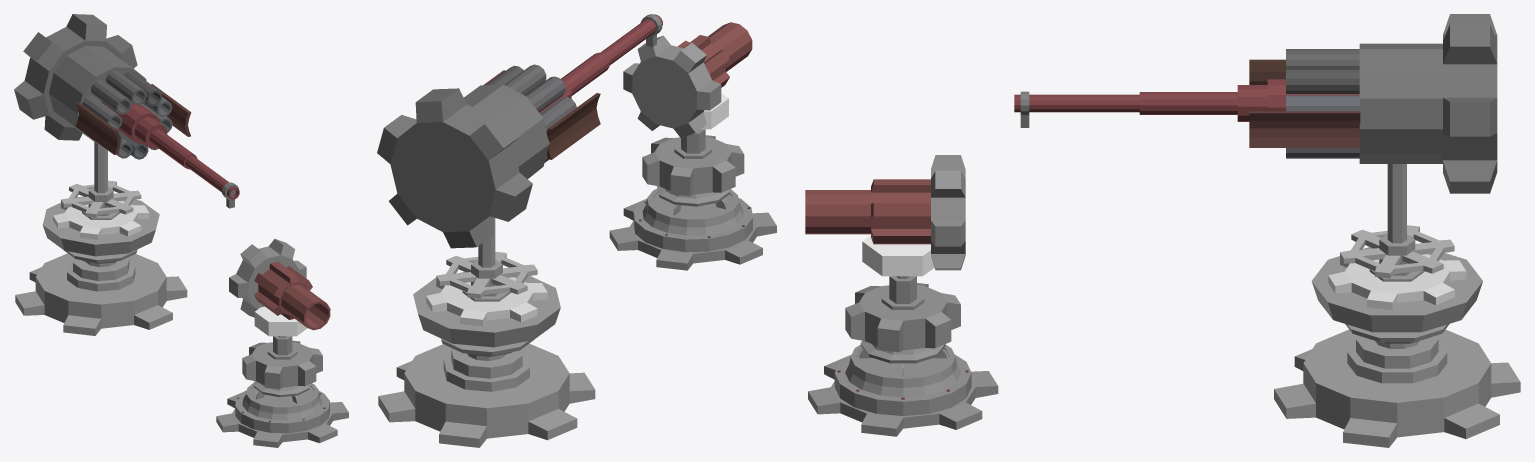
File: Sub Turret Set 4.fbx
3 renders of one model, left to right at view 1: azimuth 30°, elevation 25°; view 2: azimuth 150°, elevation 25°; view 3: azimuth 270°, elevation 25°, orthographic. The views are drawn at different scales.
Visible parts, largest first — view 1: Gun_5_Gun.009, Gun_5_Base.001, Cannon_1_Gun, Cannon_1_Base.012; view 2: Gun_5_Gun.009, Gun_5_Base.001, Cannon_1_Gun, Cannon_1_Base.012; view 3: Gun_5_Gun.009, Gun_5_Base.001, Cannon_1_Gun, Cannon_1_Base.012.
Boxes of the visible parts, x1,y1,x2,y2 form: Gun_5_Gun.009: (14, 14, 239, 239); Gun_5_Base.001: (15, 196, 187, 335); Cannon_1_Gun: (229, 239, 330, 397); Cannon_1_Base.012: (216, 382, 348, 447); Gun_5_Gun.009: (377, 14, 662, 326); Gun_5_Base.001: (378, 272, 595, 447); Cannon_1_Gun: (623, 22, 752, 206); Cannon_1_Base.012: (609, 189, 776, 270); Gun_5_Gun.009: (1014, 14, 1497, 309); Gun_5_Base.001: (1274, 247, 1520, 447); Cannon_1_Gun: (805, 155, 965, 363); Cannon_1_Base.012: (808, 344, 998, 436).
Bounding box in the file's own units: 6570 × 11064 × 19064.
